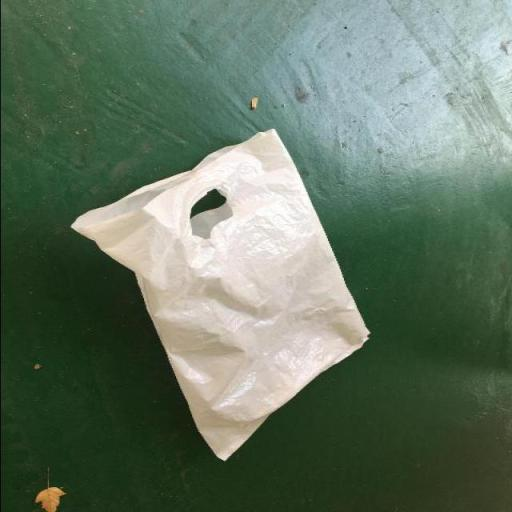plastic-bag: (68, 128, 370, 463)
